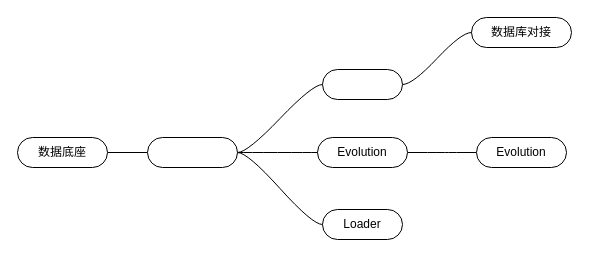
Some shapes in this 589 by 257 pixel diagram are drawn without their labels. Each missing label, with the box of its shape:
Darwin: (322, 68, 402, 100)
实时计算: (146, 136, 238, 168)
